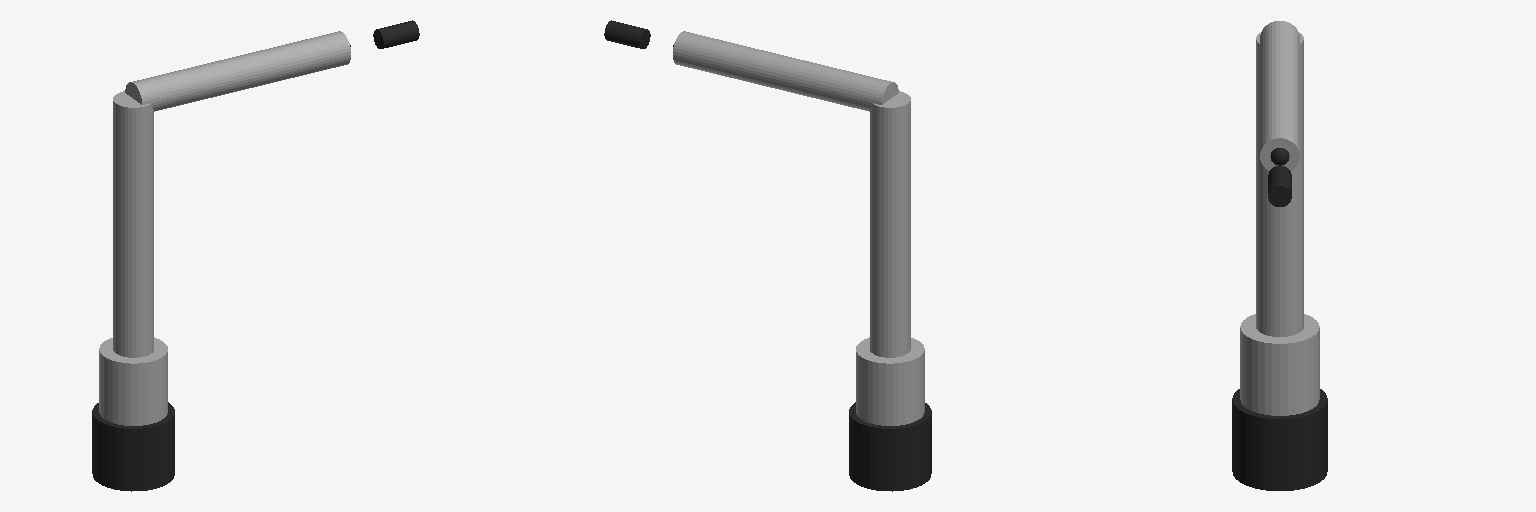
robot.urdf — manipulator1:
<?xml version="1.0"?>
<robot name="manipulator1">

  <!-- ================= Materials ================= -->
  <material name="gray"><color rgba="0.7 0.7 0.7 1"/></material>
  <material name="dark"><color rgba="0.2 0.2 0.2 1"/></material>

  <!-- ================= Base ================= -->
  <link name="base_link">
    <visual>
      <origin xyz="0 0 0.05"/>
      <geometry>
        <cylinder radius="0.06" length="0.10"/>
      </geometry>
      <material name="dark"/>
    </visual>
  </link>

  <!-- ================= Base rotation ================= -->
  <link name="base_plate">
    <visual>
      <origin xyz="0 0 0.05"/>
      <geometry>
        <cylinder radius="0.05" length="0.10"/>
      </geometry>
      <material name="gray"/>
    </visual>
  </link>

  <joint name="base_link_j_base_plate" type="revolute">
    <parent link="base_link"/>
    <child  link="base_plate"/>
    <origin xyz="0 0 0.10" rpy="0 0 0"/>
    <axis xyz="0 0 1"/>
    <limit lower="-3.14" upper="3.14" effort="50" velocity="2.0"/>
  </joint>

  <!-- ================= Shoulder ================= -->
  <!-- Effective length ≈ 0.50 m -->
  <link name="link1_side_plate12">
    <visual>
      <origin xyz="0.25 0 0" rpy="0 1.5708 0"/>
      <geometry>
        <cylinder radius="0.03" length="0.50"/>
      </geometry>
      <material name="gray"/>
    </visual>
  </link>

  <joint name="side_plate1_j_side_plate12" type="revolute">
    <parent link="base_plate"/>
    <child  link="link1_side_plate12"/>
    <origin xyz="0 0 0" rpy="0 -1.5708 0"/>
    <axis xyz="0 1 0"/>
    <limit lower="-2.4" upper="2.4" effort="40" velocity="2.0"/>
  </joint>

  <!-- ================= Elbow ================= -->
  <!-- Effective length ≈ 0.35 m -->
  <link name="link2_side_plate_12">
    <visual>
      <origin xyz="0.175 0 0" rpy="0 1.5708 0"/>
      <geometry>
        <cylinder radius="0.025" length="0.35"/>
      </geometry>
      <material name="gray"/>
    </visual>
  </link>

  <joint name="motor_holder_j_side_plate_12" type="revolute">
    <parent link="link1_side_plate12"/>
    <child  link="link2_side_plate_12"/>
    <origin xyz="0.50 0 0" rpy="0 1.5708 0"/>
    <axis xyz="0 1 0"/>
    <limit lower="-2.4" upper="2.4" effort="40" velocity="2.0"/>
  </joint>

    <!-- ================= Wrist Roll (ZERO LENGTH) ================= -->
  <link name="bevel1">
    <!-- purely a frame holder, no physical length -->
    <visual>
      <origin xyz="0 0 0"/>
      <geometry>
        <sphere radius="0.01"/>
      </geometry>
      <material name="gray"/>
    </visual>
  </link>

  <joint name="link3_j_bevel1" type="revolute">
    <parent link="link2_side_plate_12"/>
    <child  link="bevel1"/>

    <!-- wrist center = exactly at end of link2 -->
    <origin xyz="0.35 0 0" rpy="0 0 0"/>

    <!-- roll -->
    <axis xyz="1 0 0"/>
    <limit lower="-3.14" upper="3.14" effort="20" velocity="3.0"/>
  </joint>

  <!-- ================= Wrist Pitch (SAME LOCATION) ================= -->
  <link name="bevel3">
    <!-- also zero-length frame -->
    <visual>
      <origin xyz="0 0 0"/>
      <geometry>
        <sphere radius="0.012"/>
      </geometry>
      <material name="dark"/>
    </visual>
  </link>

  <joint name="bevel_coupler_j_bevel3" type="revolute">
    <parent link="bevel1"/>
    <child  link="bevel3"/>

    <!-- SAME ORIGIN as previous joint -->
    <origin xyz="0 0 0" rpy="0 0 0"/>

    <!-- pitch -->
    <axis xyz="0 1 0"/>
    <limit lower="-2.4" upper="2.4" effort="20" velocity="3.0"/>
  </joint>

  <!-- ================= Tool Rotor ================= -->
  <link name="gl1">
    <visual>
      <origin xyz="0.03 0 0" rpy="0 1.5708 0"/>
      <geometry>
        <cylinder radius="0.015" length="0.06"/>
      </geometry>
      <material name="dark"/>
    </visual>
  </link>

  <joint name="servo_J_gl1" type="revolute">
    <parent link="bevel3"/>
    <child  link="gl1"/>

    <!-- small tool offset -->
    <origin xyz="0.06 0 0" rpy="0 0 0"/>

    <!-- claw rotor -->
    <axis xyz="0 0 1"/>
    <limit lower="0.0" upper="1.3" effort="10" velocity="3.0"/>
  </joint>

</robot>
  
  
  
  
  
  
  
  
  
  
  
  
  
  
  
  
  
  
  
  
  
  
  
  
  
  
  
  
  
  
  
  
  
  
  
  
  

--- Render facts (derived) ---
Views: 3 orthographic renders of the robot side by side, from view 1: azimuth 30°, elevation 25°; view 2: azimuth 150°, elevation 25°; view 3: azimuth 270°, elevation 25°.
Robot: manipulator1 — 7 links, 6 joints (6 revolute); root link base_link; default pose: all joints at 0.
Links seen in each view (by area): view 1: link1_side_plate12, link2_side_plate_12, base_link, base_plate, gl1; view 2: link1_side_plate12, link2_side_plate_12, base_link, base_plate, gl1; view 3: link1_side_plate12, base_link, base_plate, link2_side_plate_12, gl1.
Link boxes in pixels (x1,y1,x2,y2): link1_side_plate12: (113,91,153,357); link2_side_plate_12: (125,31,350,111); base_link: (92,402,174,491); base_plate: (99,337,167,425); gl1: (373,20,419,48); link1_side_plate12: (870,91,910,357); link2_side_plate_12: (673,31,898,111); base_link: (849,402,931,491); base_plate: (856,337,924,425); gl1: (604,20,650,48); link1_side_plate12: (1256,33,1303,336); base_link: (1232,389,1327,490); base_plate: (1240,314,1319,415); link2_side_plate_12: (1260,21,1299,170); gl1: (1268,166,1291,206).
Bounding box of the posed robot: 0.53 × 0.12 × 0.625 m (x, y, z).
Geometry: primitives only (box / cylinder / sphere), no mesh files.